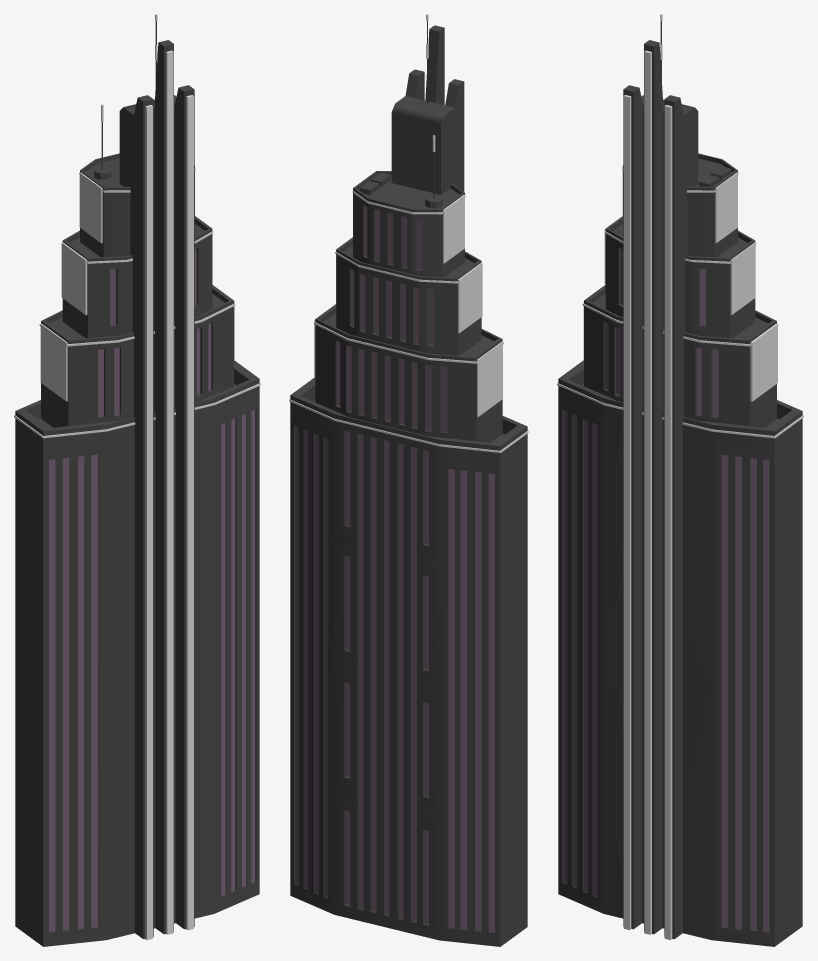
Rendered from SM_Building_8.fbx.
The picture shows the model from 3 angles, left to right: view 1: azimuth 30°, elevation 25°; view 2: azimuth 150°, elevation 25°; view 3: azimuth 330°, elevation 25°; orthographic projection. The views are drawn at different scales.
Parts seen in each view (by area): view 1: pCube107, pCube9, pCube121, pCube110, pCube123, pCube10, pCube11, pCube12, pCube113, pCube116, pCube16, pCube17 (+3 smaller); view 2: pCube107, pCube119, pCube122, pCube110, pCube113, pCube9, pCube120, pCube116, pCube125, pCube16, pCube127, pCube17 (+4 smaller); view 3: pCube107, pCube9, pCube123, pCube110, pCube121, pCube11, pCube12, pCube10, pCube113, pCube116, pCube13, pCube14 (+3 smaller).
Boxes of the visible parts, bbox=[...] form: pCube107: bbox=[15, 360, 259, 946]; pCube9: bbox=[119, 40, 194, 939]; pCube121: bbox=[49, 454, 97, 931]; pCube110: bbox=[41, 285, 233, 427]; pCube123: bbox=[221, 410, 255, 896]; pCube10: bbox=[166, 50, 173, 934]; pCube11: bbox=[186, 95, 193, 930]; pCube12: bbox=[145, 105, 152, 940]; pCube113: bbox=[62, 216, 212, 338]; pCube116: bbox=[80, 153, 194, 257]; pCube16: bbox=[40, 323, 67, 401]; pCube17: bbox=[61, 242, 87, 314]; pCube107: bbox=[290, 377, 527, 946]; pCube119: bbox=[346, 431, 428, 924]; pCube122: bbox=[448, 469, 494, 932]; pCube110: bbox=[315, 304, 502, 442]; pCube113: bbox=[336, 237, 481, 355]; pCube9: bbox=[391, 25, 464, 194]; pCube120: bbox=[295, 425, 328, 897]; pCube116: bbox=[353, 171, 464, 277]; pCube125: bbox=[347, 346, 431, 430]; pCube16: bbox=[477, 341, 502, 416]; pCube127: bbox=[361, 274, 418, 343]; pCube17: bbox=[458, 263, 482, 333]; pCube107: bbox=[558, 360, 802, 946]; pCube9: bbox=[623, 40, 698, 939]; pCube123: bbox=[721, 455, 769, 932]; pCube110: bbox=[584, 285, 776, 427]; pCube121: bbox=[563, 410, 597, 896]; pCube11: bbox=[664, 105, 672, 940]; pCube12: bbox=[623, 95, 631, 930]; pCube10: bbox=[644, 50, 651, 934]; pCube113: bbox=[605, 216, 755, 338]; pCube116: bbox=[623, 153, 737, 257]; pCube13: bbox=[750, 323, 777, 401]; pCube14: bbox=[730, 242, 755, 314].
Bounding box in the file's own units: 35.33 × 141 × 15.82.
